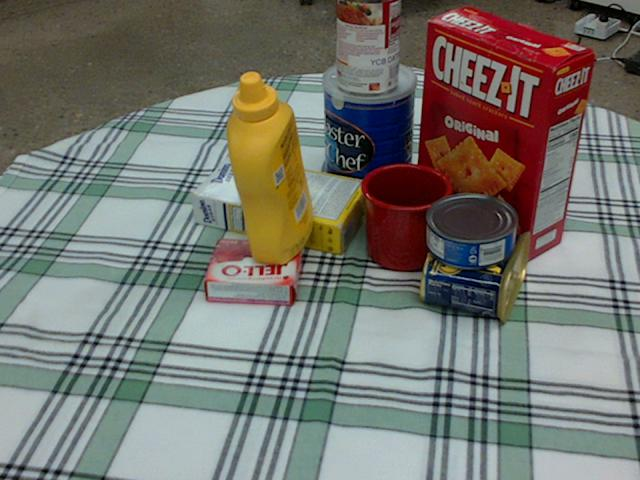cracker_box: (414, 6, 597, 259)
gelatin_box: (204, 240, 304, 306)
master_chef_can: (322, 59, 416, 210)
mug: (362, 163, 454, 271)
mustard_bottle: (226, 71, 312, 264)
potted_meat_can: (421, 215, 532, 318)
sugar_box: (189, 153, 369, 254)
tomato_soup_can: (337, 0, 401, 95)
tuna_fish_can: (425, 194, 517, 268)
